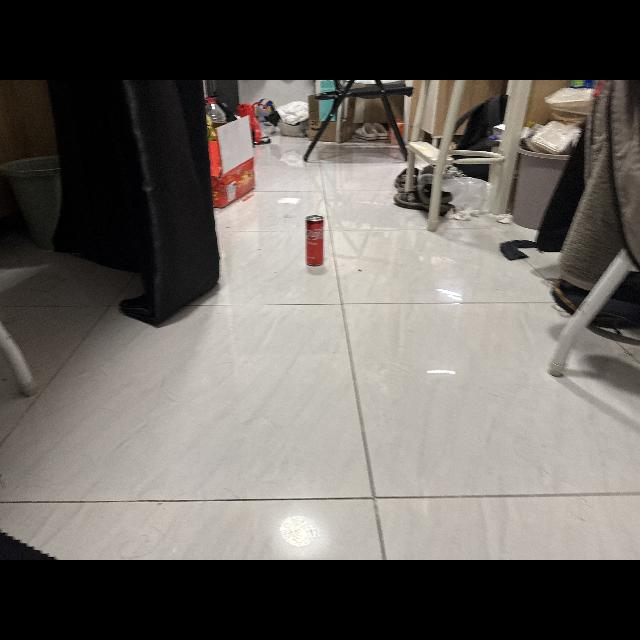Cola: (302, 212, 334, 270)
